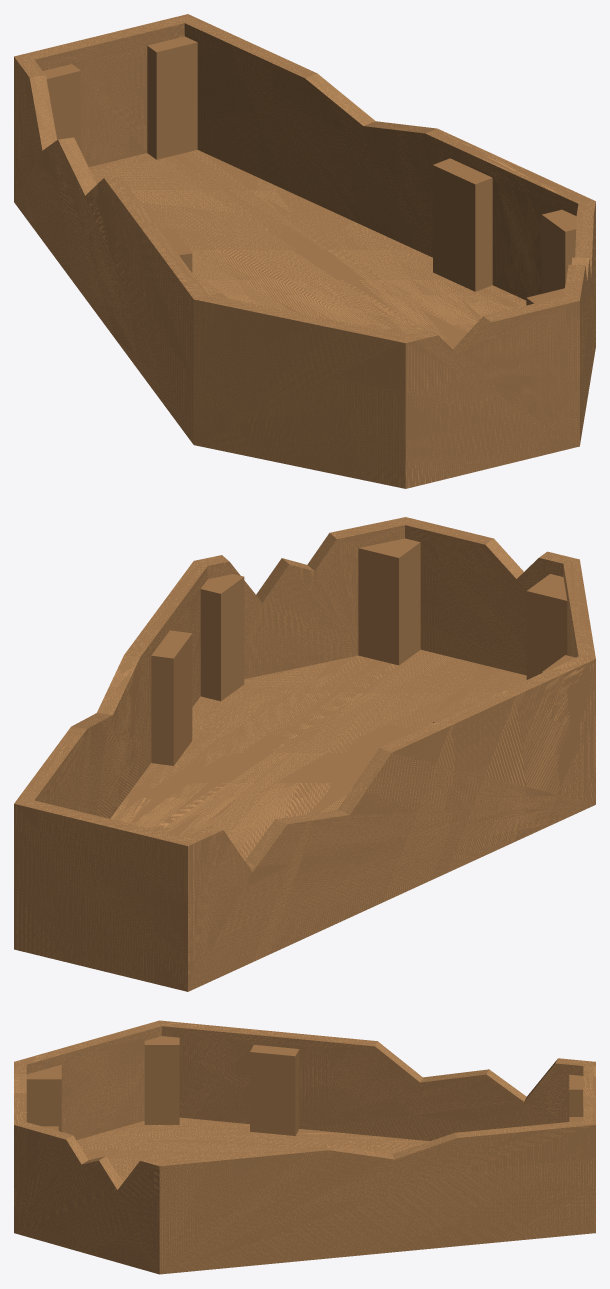
The model's file is coffinOld.dae.
3 views of the same model, one above another, from view 1: azimuth 30°, elevation 25°; view 2: azimuth 150°, elevation 25°; view 3: azimuth 270°, elevation 25° (orthographic). The views are drawn at different scales.
Visible parts, largest first — view 1: coffinOld; view 2: coffinOld; view 3: coffinOld.
Boxes of the visible parts, <box> form: coffinOld: <box>14,14,595,488</box>; coffinOld: <box>14,517,595,991</box>; coffinOld: <box>14,1020,595,1274</box>.
Size of the model in its own units: 0.5928 by 0.2052 by 1.
